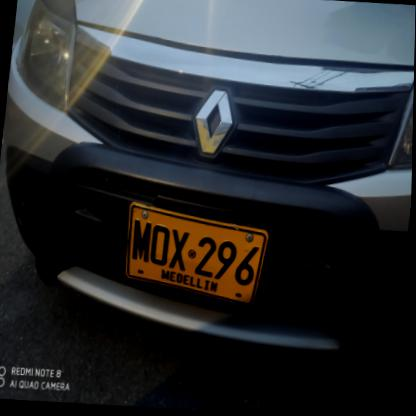placa: (115, 195, 274, 315)
